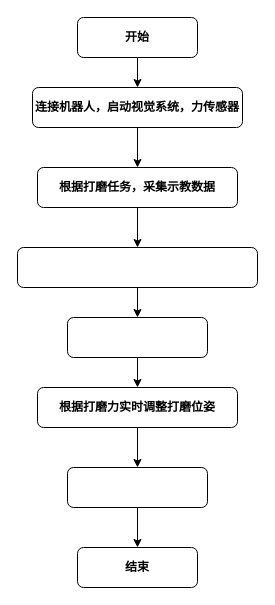
The diagram is 275 pixels wide and 605 high, and some of its shapes have lost their labels. Each missing label, with the centre of its shape:
利用示教数据进行运动规划，生成打磨轨迹: (x=137, y=267)
实时监控打磨状态: (x=137, y=487)
执行打磨任务: (x=137, y=337)
